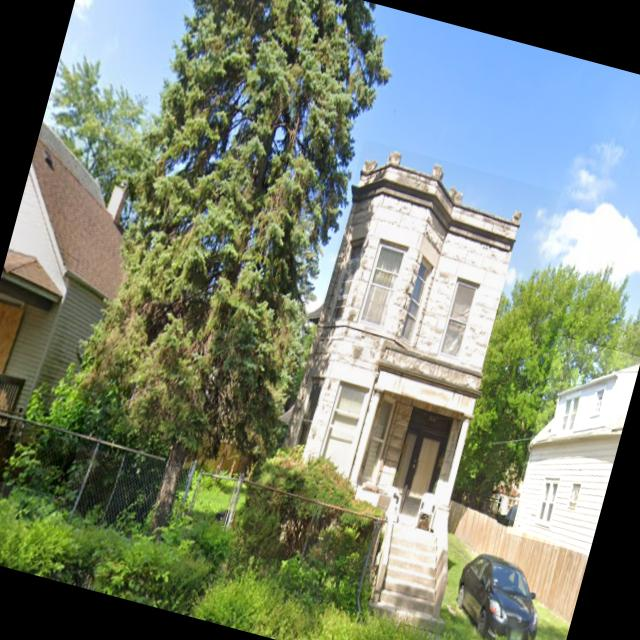House: (247, 140, 560, 630), (0, 123, 155, 497), (505, 336, 640, 555)
